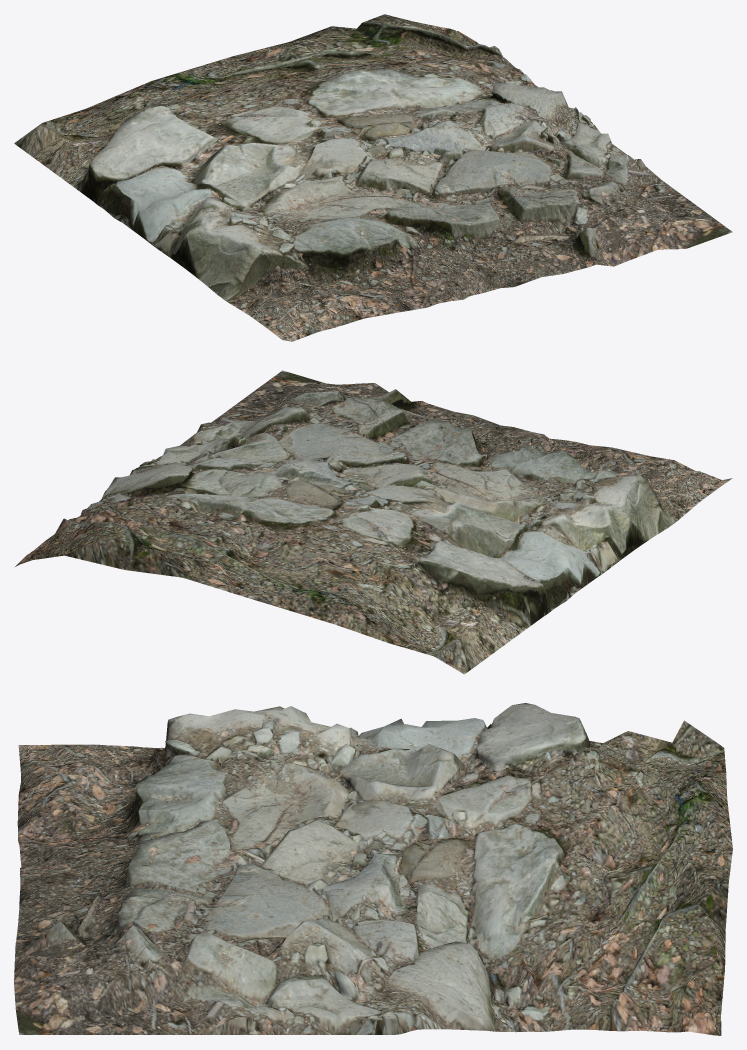
File: sm_Path_01_06.fbx
3 renders of one model, top to bottom at view 1: azimuth 30°, elevation 25°; view 2: azimuth 150°, elevation 25°; view 3: azimuth 270°, elevation 25°, orthographic. The views are drawn at different scales.
Visible parts, largest first — view 1: sm_Path_01_06_LOD0; view 2: sm_Path_01_06_LOD0; view 3: sm_Path_01_06_LOD0.
Boxes of the visible parts, x1,y1,x2,y2 form: sm_Path_01_06_LOD0: [14, 14, 732, 341]; sm_Path_01_06_LOD0: [15, 370, 732, 674]; sm_Path_01_06_LOD0: [14, 703, 732, 1035].
Size of the model in its own units: 253 by 267 by 32.01.
